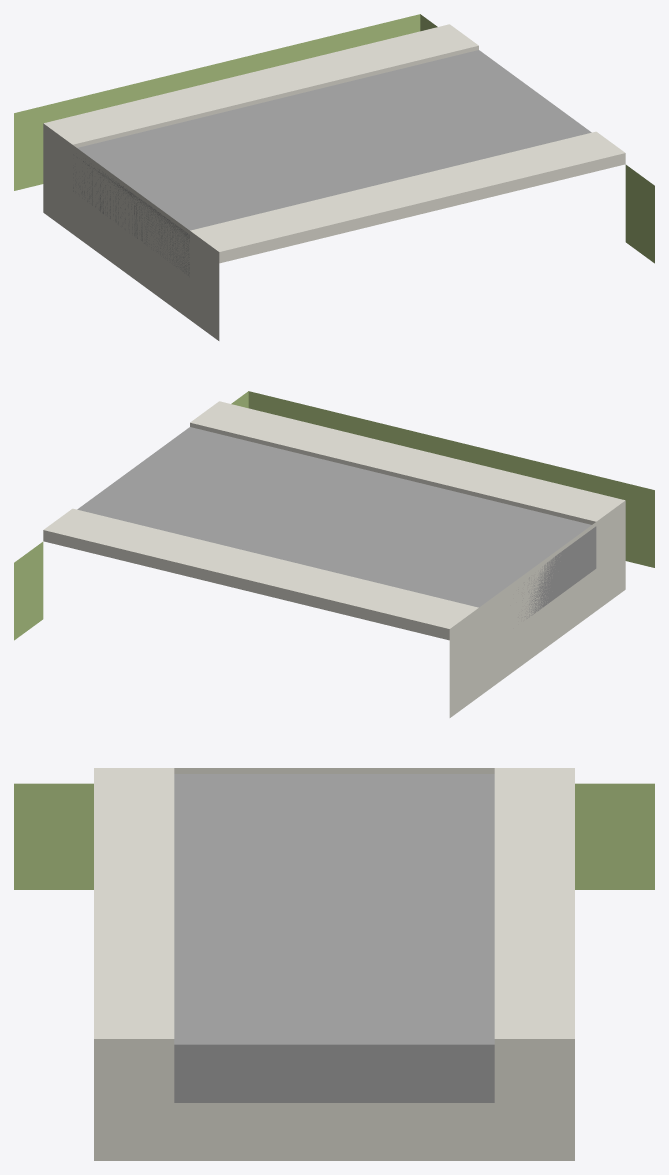
The model's file is kenney-3d-road-tiles-roadtile-162.glb.
3 views of the same model, one above another, from view 1: azimuth 30°, elevation 25°; view 2: azimuth 150°, elevation 25°; view 3: azimuth 270°, elevation 25° (orthographic). The views are drawn at different scales.
Visible parts, largest first — view 1: Mesh1 Group1 Model; view 2: Mesh1 Group1 Model; view 3: Mesh1 Group1 Model.
Part boxes in pixels (bbox=[...]): Mesh1 Group1 Model: bbox=[14, 14, 654, 340]; Mesh1 Group1 Model: bbox=[14, 391, 654, 717]; Mesh1 Group1 Model: bbox=[14, 768, 654, 1160].
Bounding box in the file's own units: 3 × 0.6299 × 3.
